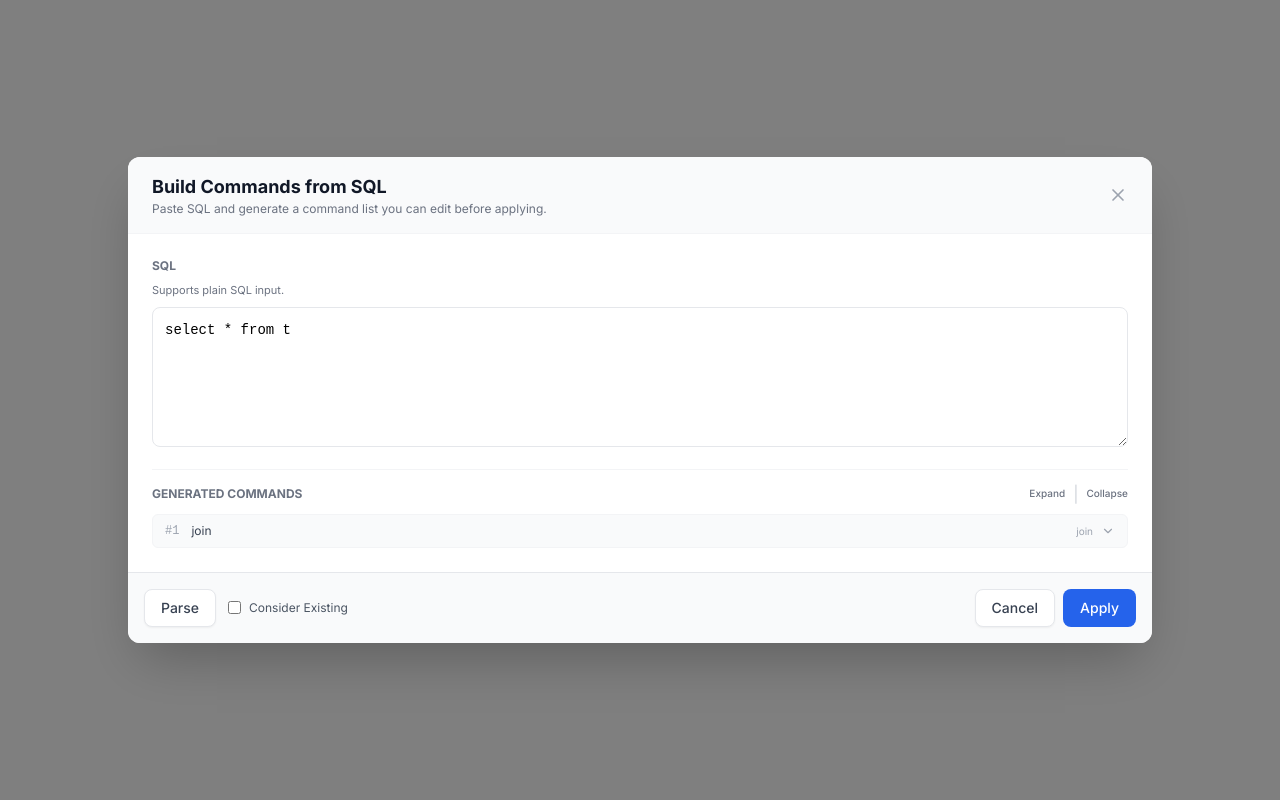
Test: SqlBuilderModal editable command matrix › join editable case: table-RIGHT-on-1
The width and height of the screenshot is (1280, 800).
Click the button "#1 join join": (169,531) x1=153 y1=515 x2=1127 y2=547
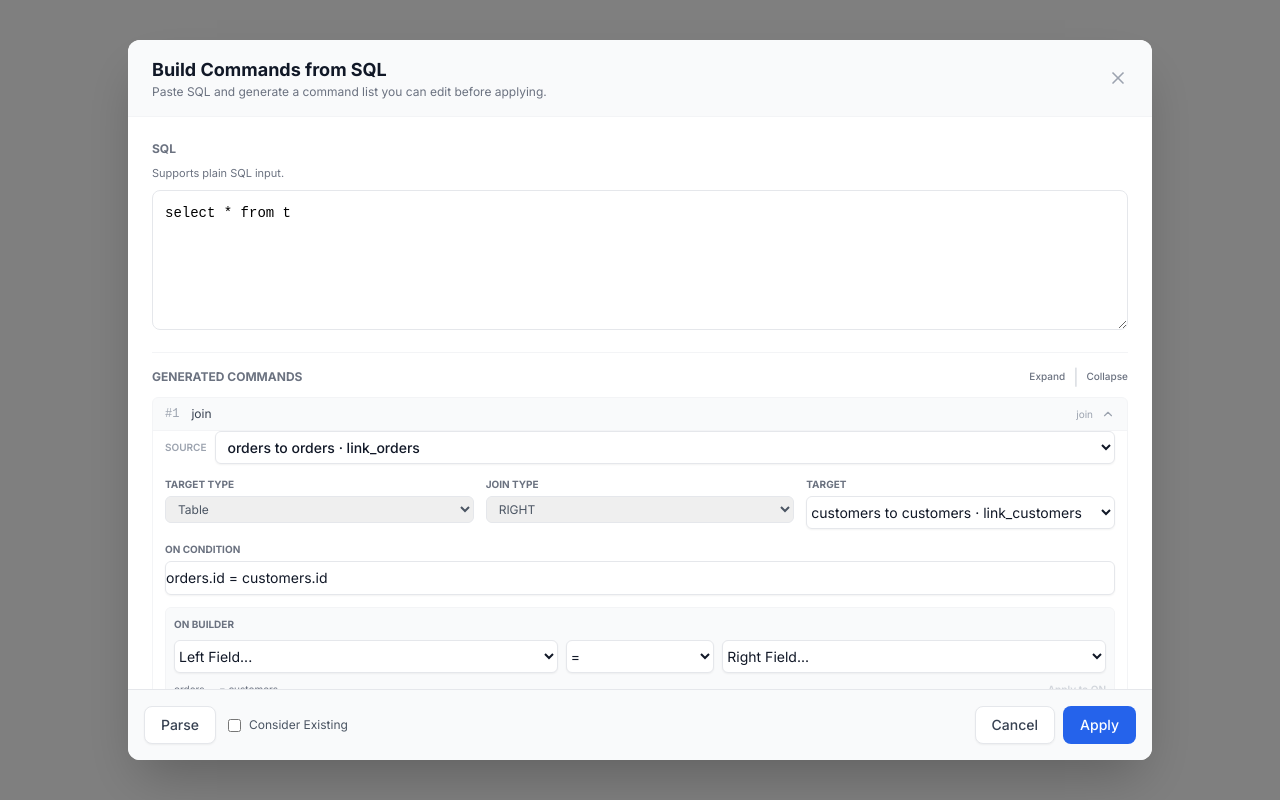
Check: the dropdown below "Target Type" shows "Table", box x1=165 y1=496 x2=474 y2=522
Check: the dropdown below "Join Type" shows "RIGHT", box x1=486 y1=496 x2=794 y2=522
Check: the field with placeholder "left.id = right.user_id" holds "orders.id = customers.id", box x1=165 y1=560 x2=1115 y2=594
